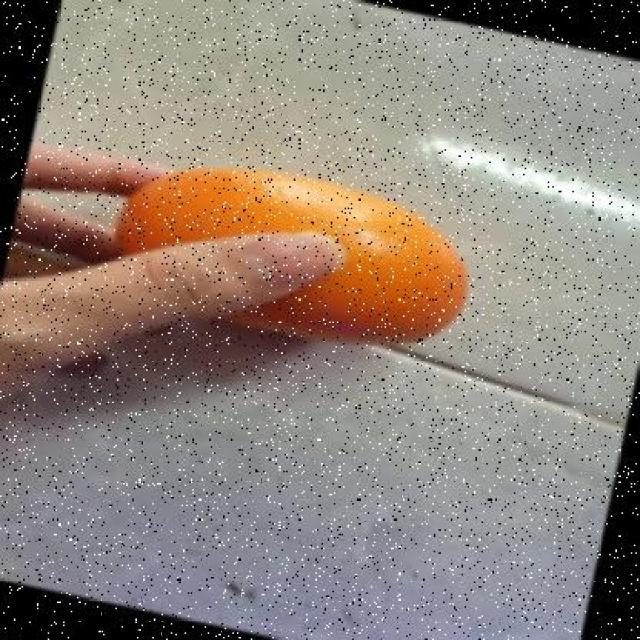Orange: (114, 164, 469, 344)
